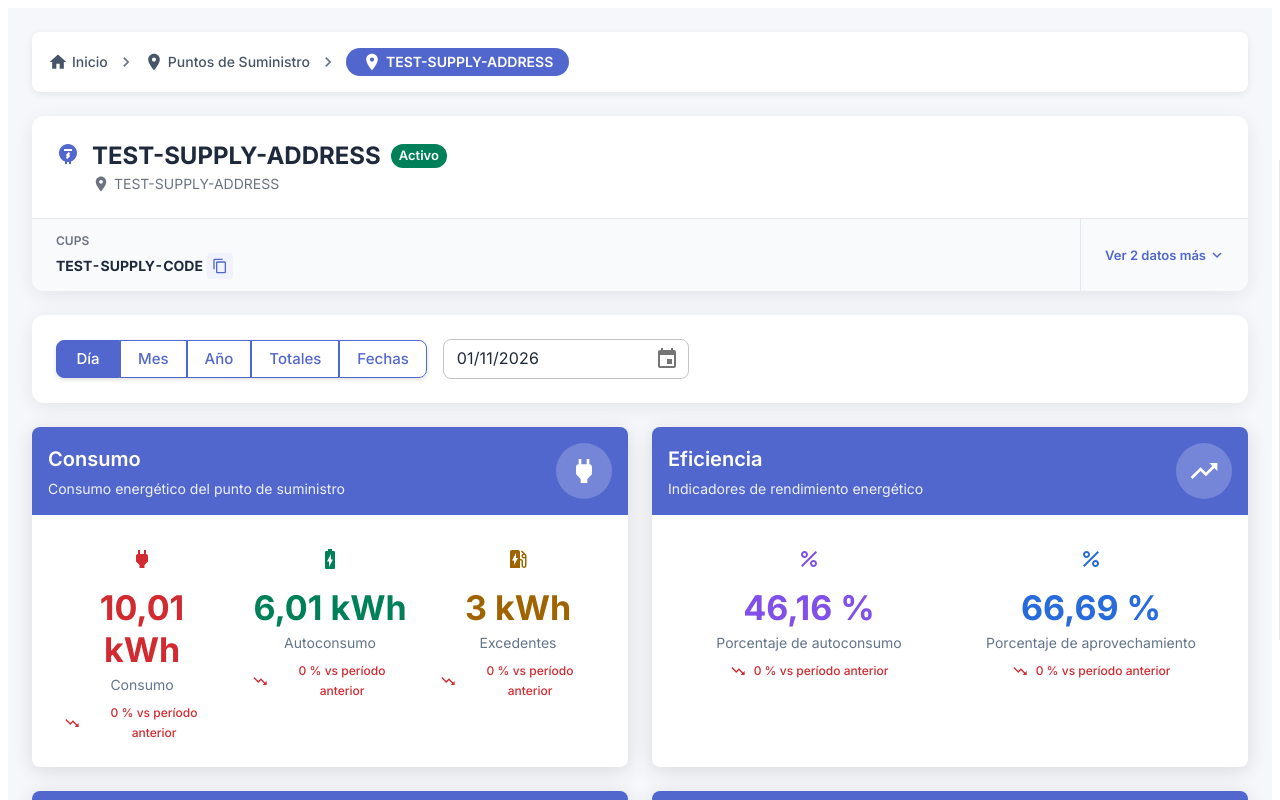
Test: SupplyDetailPage daily consumption › totals the daily buckets of the month view
Click the button "Mes". click: (153, 359)
box: [120,340,187,378]
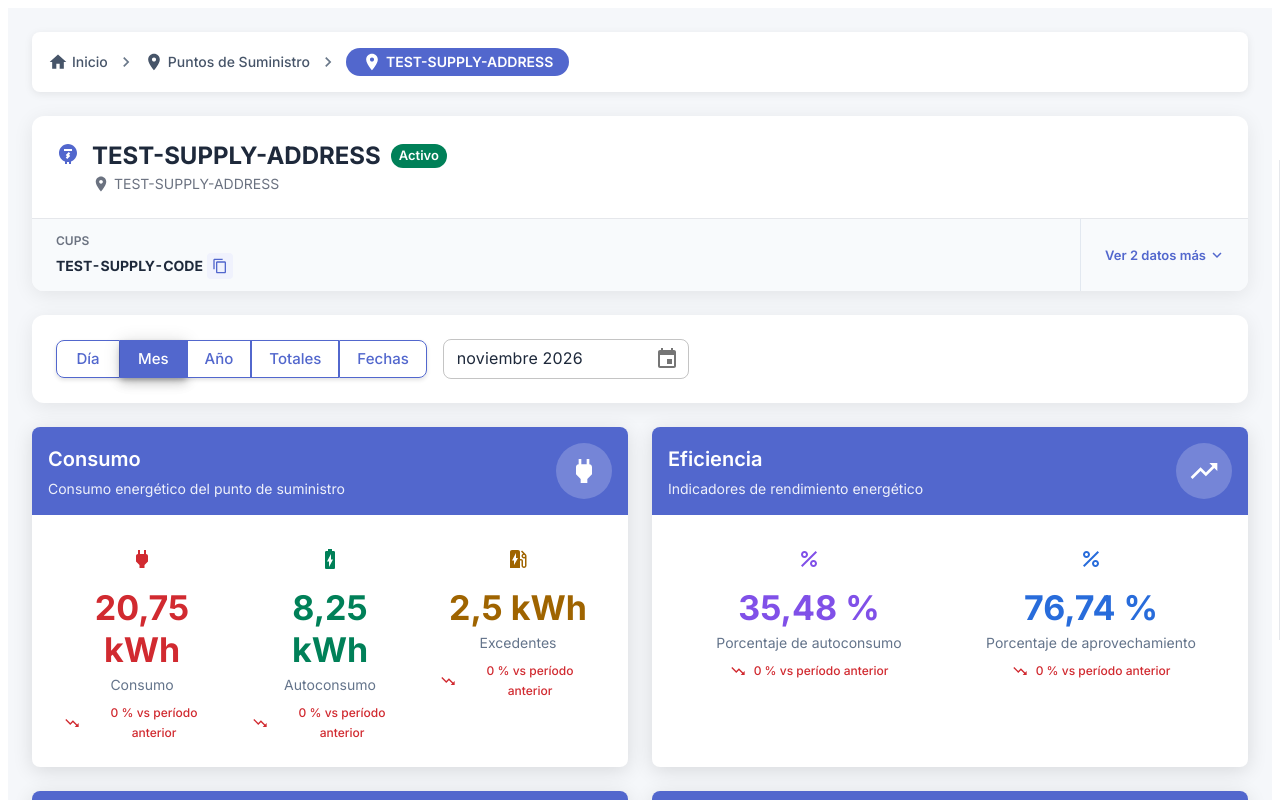
expect the text "20,75 kWh" is shown: met, box [95,587,189,670]
expect the text "8,25 kWh" is shown: met, box [292,587,368,670]
expect the text "2,5 kWh" is shown: met, box [440,587,596,629]
